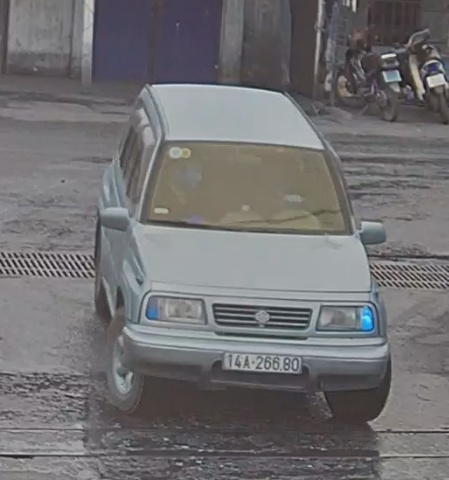vehicle plate: (224, 348, 313, 376)
